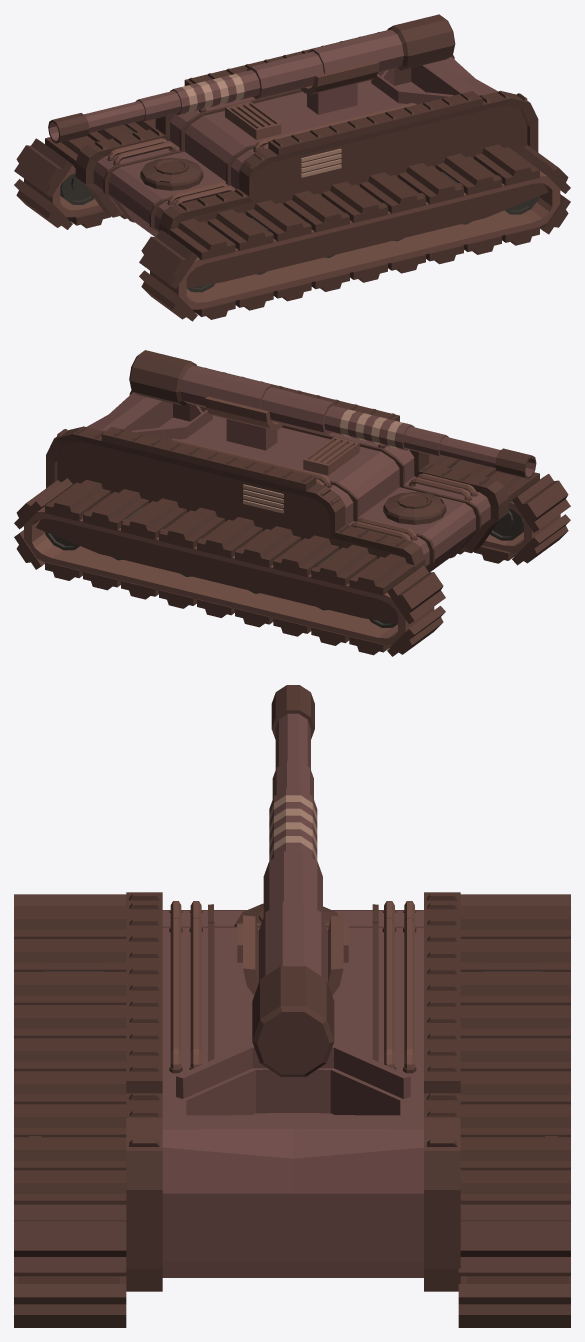
File: Tank4.glb
3 views of the same model, one above another, from view 1: azimuth 30°, elevation 25°; view 2: azimuth 150°, elevation 25°; view 3: azimuth 270°, elevation 25° (orthographic). The views are drawn at different scales.
Parts seen in each view (by area): view 1: Tank_body.001, TrackMesh.L, Tank_Gun, TrackMesh.R, Tank_Turret; view 2: Tank_body.001, TrackMesh.R, Tank_Gun, TrackMesh.L, Tank_Turret; view 3: Tank_body.001, TrackMesh.L, TrackMesh.R, Tank_Gun, Tank_Turret.
Part boxes in pixels (x1,y1,x2,y2): Tank_body.001: (24, 30, 560, 309); TrackMesh.L: (139, 143, 570, 321); Tank_Gun: (48, 14, 455, 143); TrackMesh.R: (14, 119, 155, 229); Tank_Turret: (301, 61, 379, 114); Tank_body.001: (24, 366, 560, 645); TrackMesh.R: (14, 478, 445, 656); Tank_Gun: (129, 350, 536, 479); TrackMesh.L: (429, 454, 570, 565); Tank_Turret: (205, 396, 283, 450); Tank_body.001: (17, 892, 568, 1291); TrackMesh.L: (14, 894, 126, 1327); TrackMesh.R: (458, 894, 570, 1327); Tank_Gun: (252, 685, 334, 1076); Tank_Turret: (243, 915, 343, 995).
Bounding box in the file's own units: 16.14 × 5.98 × 9.98.
